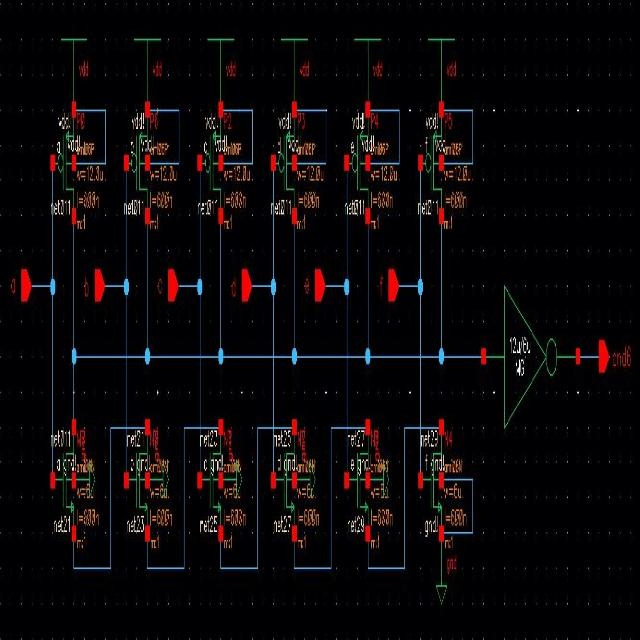inverter: (480, 279, 580, 436)
nmos: (343, 418, 371, 545), (418, 417, 445, 545), (270, 421, 298, 543), (198, 418, 224, 544), (49, 419, 76, 538), (124, 423, 150, 540)
pmos: (343, 100, 371, 226), (270, 102, 298, 223), (123, 102, 150, 227), (197, 103, 224, 226), (418, 101, 445, 224), (50, 102, 76, 226)
